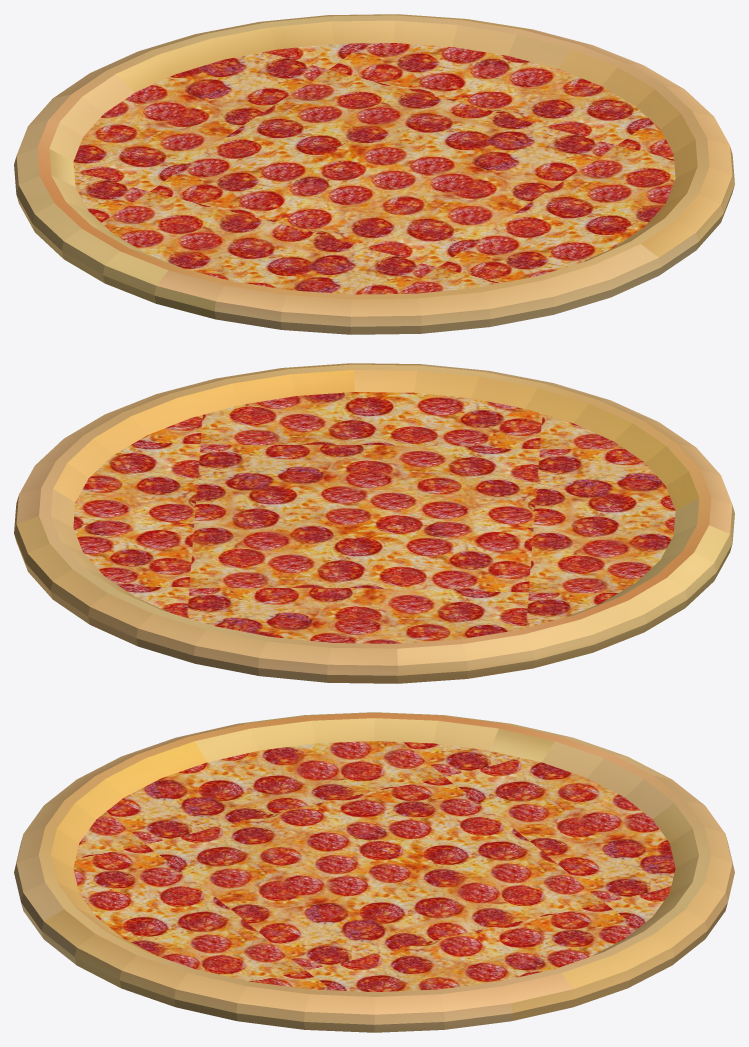
Rendered from pizza.fbx.
3 views of the same model, one above another, from view 1: azimuth 30°, elevation 25°; view 2: azimuth 150°, elevation 25°; view 3: azimuth 270°, elevation 25° (orthographic).
Parts seen in each view (by area): view 1: Pizza; view 2: Pizza; view 3: Pizza.
Part boxes in pixels (box(x1,y1,x2,y2)): Pizza: box(14, 14, 734, 334); Pizza: box(14, 363, 734, 683); Pizza: box(14, 712, 734, 1032).
Size of the model in its own units: 134 by 9.52 by 134.
